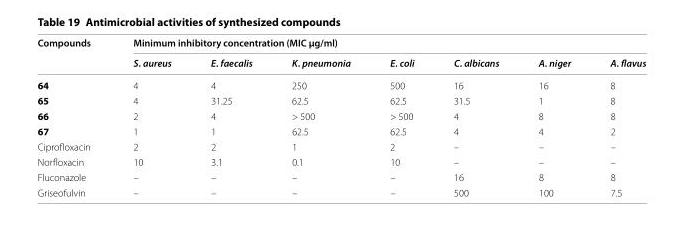table: (36, 36, 645, 197)
table column: (271, 36, 369, 197), (433, 36, 518, 197), (190, 36, 271, 197), (111, 36, 190, 197), (36, 36, 111, 197), (518, 36, 589, 197), (369, 36, 433, 197), (589, 36, 645, 197)
table column header: (36, 36, 645, 73)
table row: (36, 52, 645, 73), (36, 73, 645, 92), (36, 36, 645, 52), (36, 107, 645, 123), (36, 153, 645, 169), (36, 92, 645, 107), (36, 123, 645, 138), (36, 138, 645, 153), (36, 169, 645, 184), (36, 184, 645, 197)
table spanning cell: (111, 36, 645, 52), (36, 36, 111, 73)
